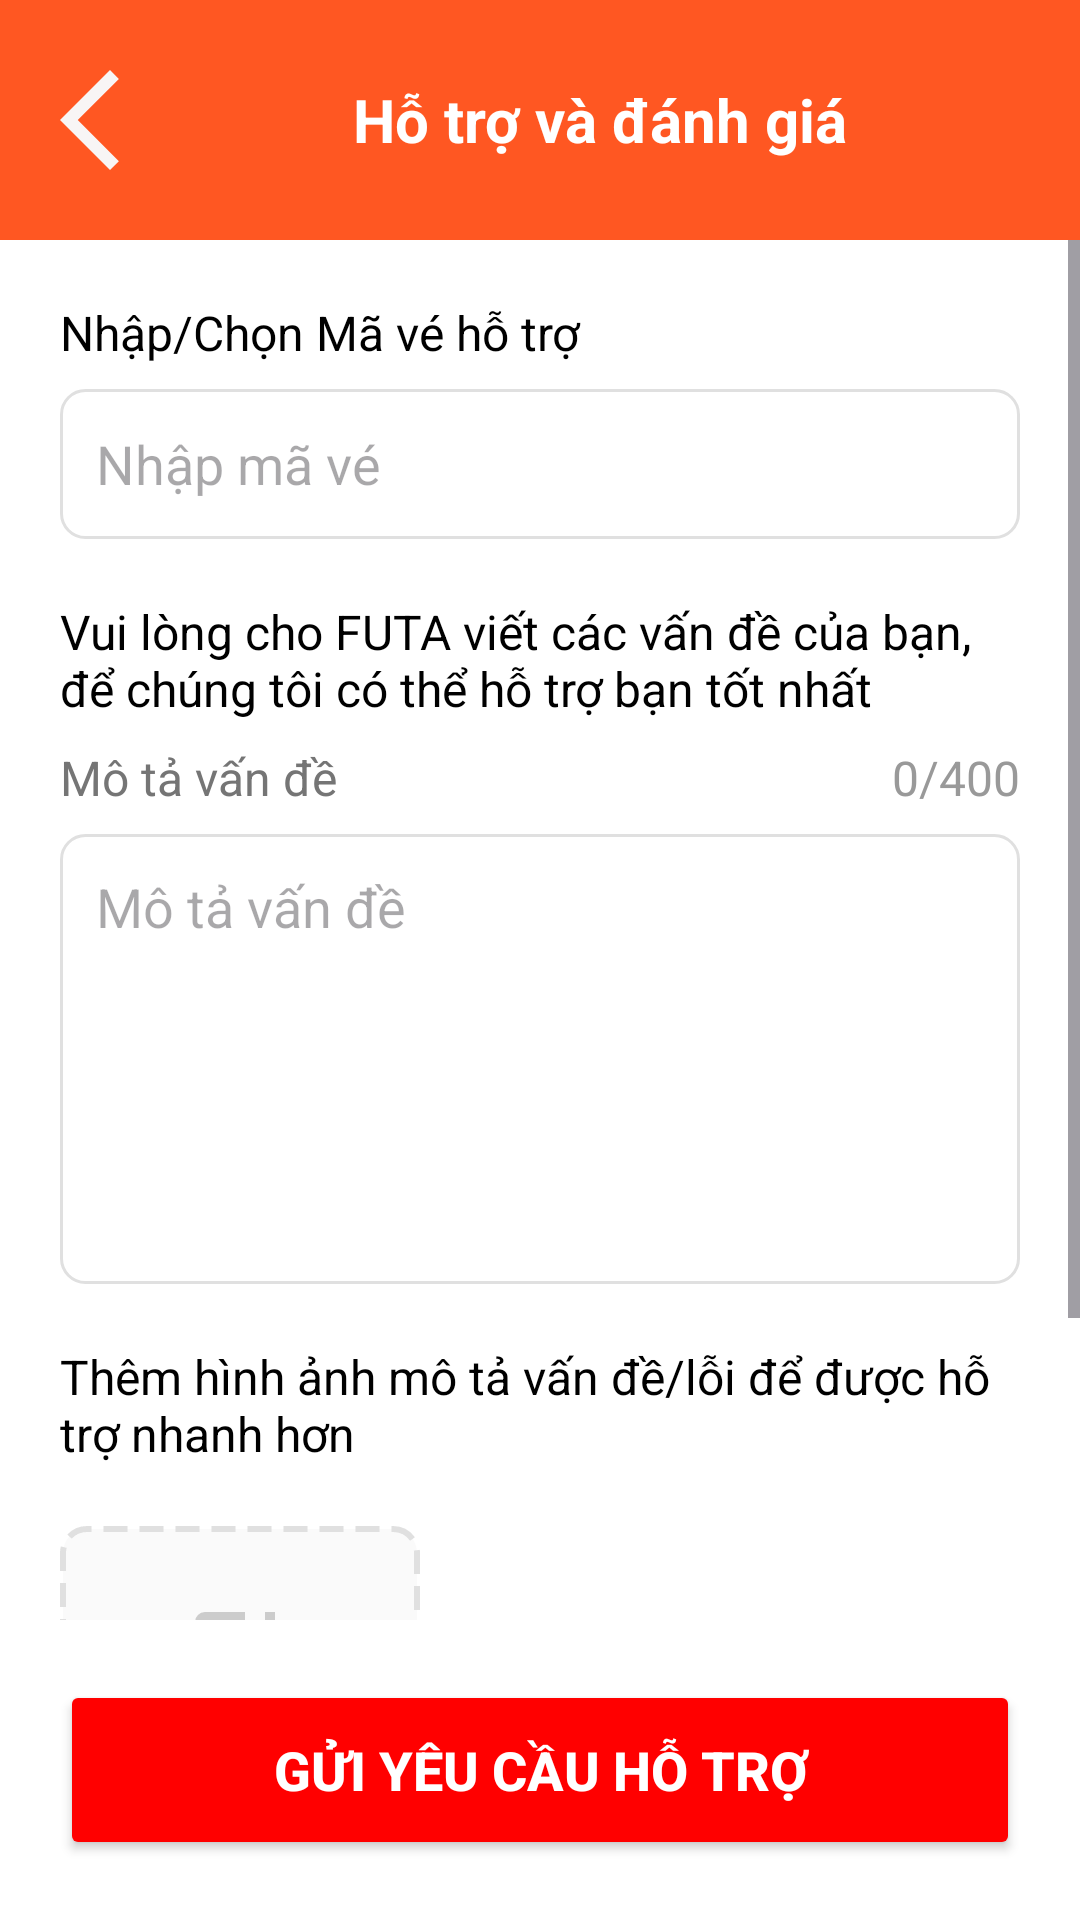

Icons on this 1080w x 1920h Android screen, each with its box as (x1, y1, x2, y2):
back: (60, 70, 119, 170)
